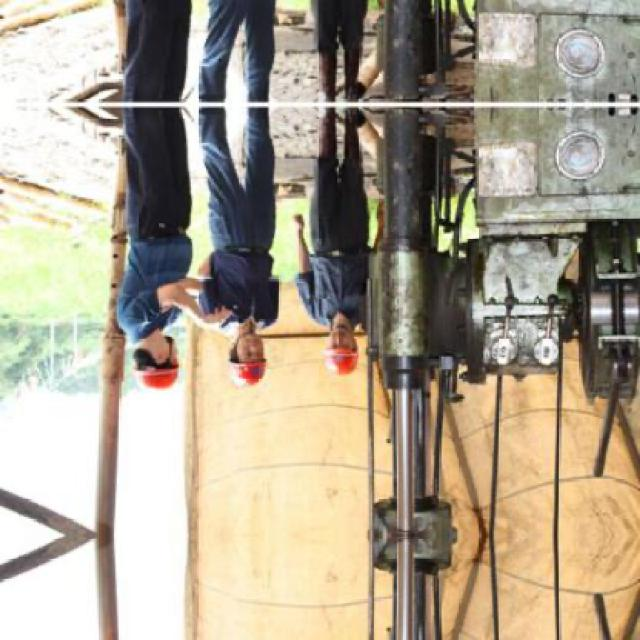con casco: (210, 274, 278, 388), (126, 306, 184, 387), (320, 324, 387, 389)
